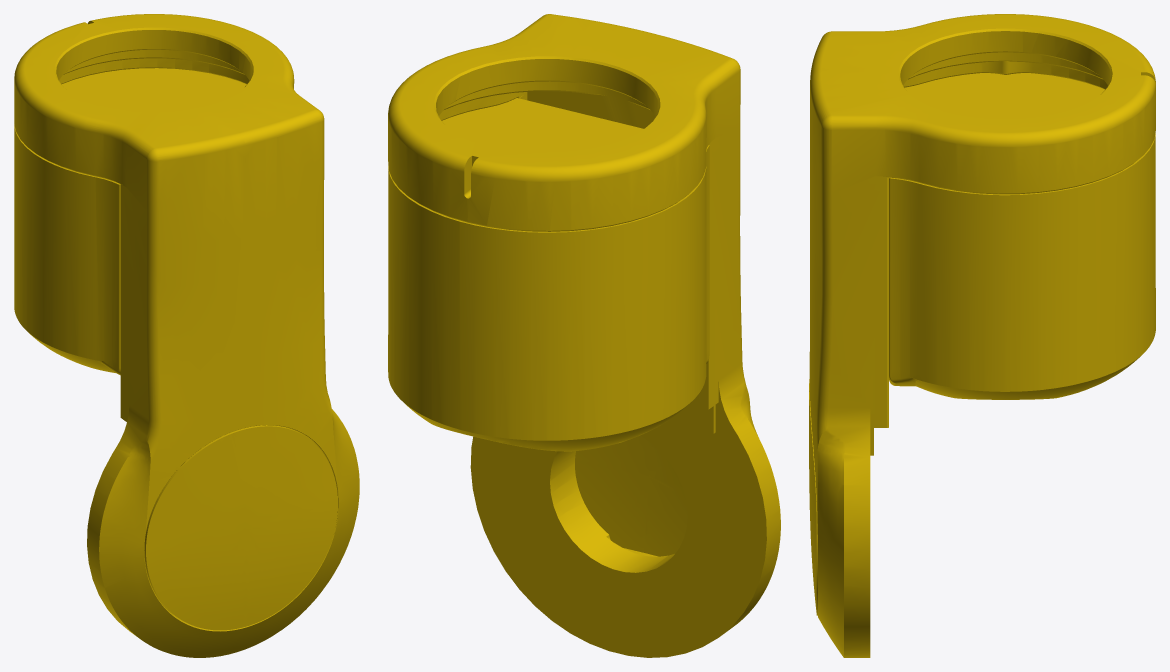
The model's file is arml4.glb.
3 renders of one model, left to right at view 1: azimuth 30°, elevation 25°; view 2: azimuth 150°, elevation 25°; view 3: azimuth 270°, elevation 25°, orthographic. The views are drawn at different scales.
Visible parts, largest first — view 1: Mesh_0.004; view 2: Mesh_0.004; view 3: Mesh_0.004.
Part boxes in pixels (x1,y1,x2,y2): Mesh_0.004: [14, 14, 359, 657]; Mesh_0.004: [388, 14, 780, 657]; Mesh_0.004: [809, 14, 1155, 657].
Size of the model in its own units: 0.086 by 0.167 by 0.0923.
